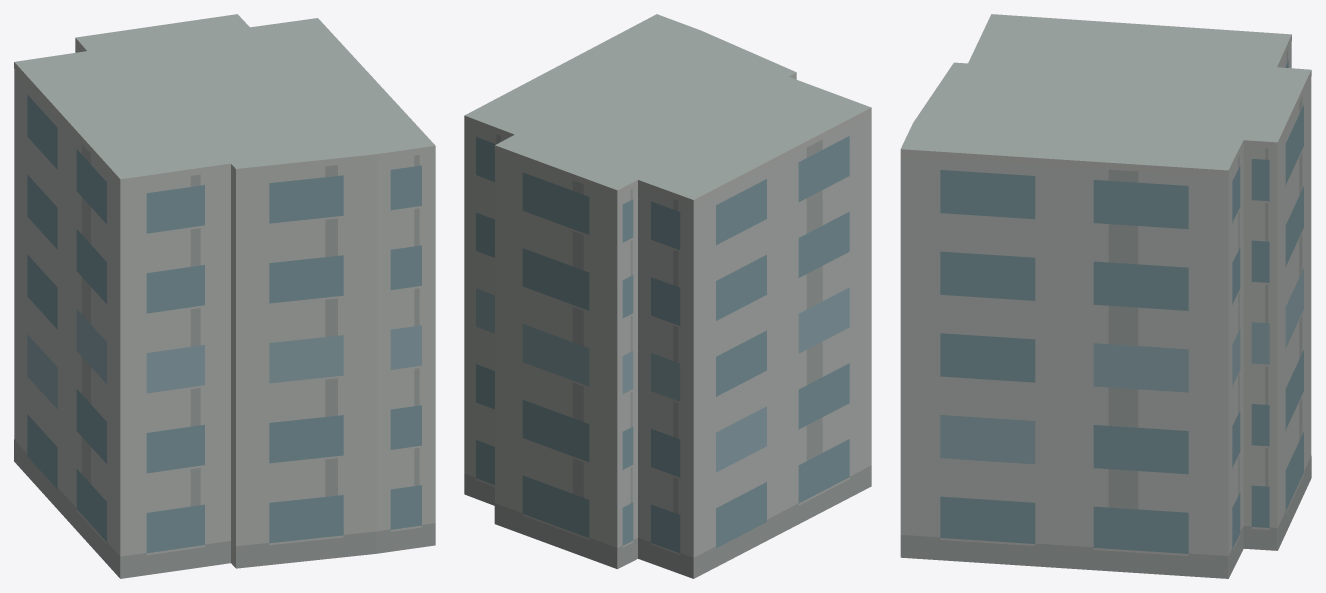
Rendered from survey-upis-32681784.glb.
3 views of the same model, side by side, from view 1: azimuth 30°, elevation 25°; view 2: azimuth 150°, elevation 25°; view 3: azimuth 270°, elevation 25° (orthographic). The views are drawn at different scales.
Parts seen in each view (by area): view 1: survey-upis-32681784.tmp; view 2: survey-upis-32681784.tmp; view 3: survey-upis-32681784.tmp.
Part boxes in pixels (x1,y1,x2,y2): survey-upis-32681784.tmp: (14, 14, 435, 578); survey-upis-32681784.tmp: (464, 14, 871, 578); survey-upis-32681784.tmp: (900, 14, 1311, 578).
Bounding box in the file's own units: 11.88 × 14.45 × 13.19.
